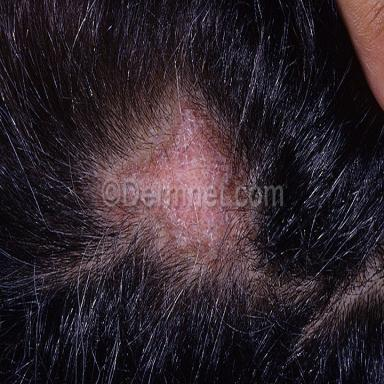Lupus-Erythematosus-Chronicus-Discoides: (115, 97, 248, 185), (115, 206, 260, 262)
